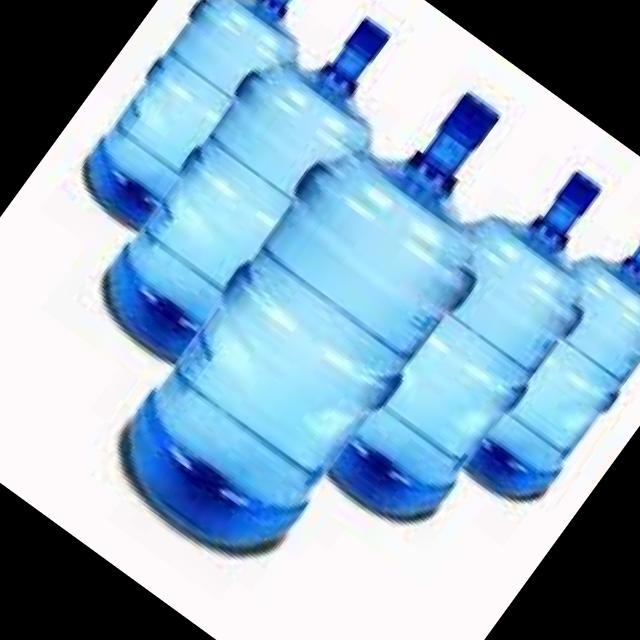Galon: (89, 44, 563, 590)
